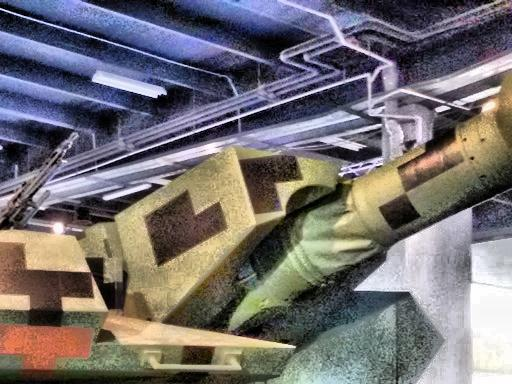tanks: (1, 75, 512, 384)
